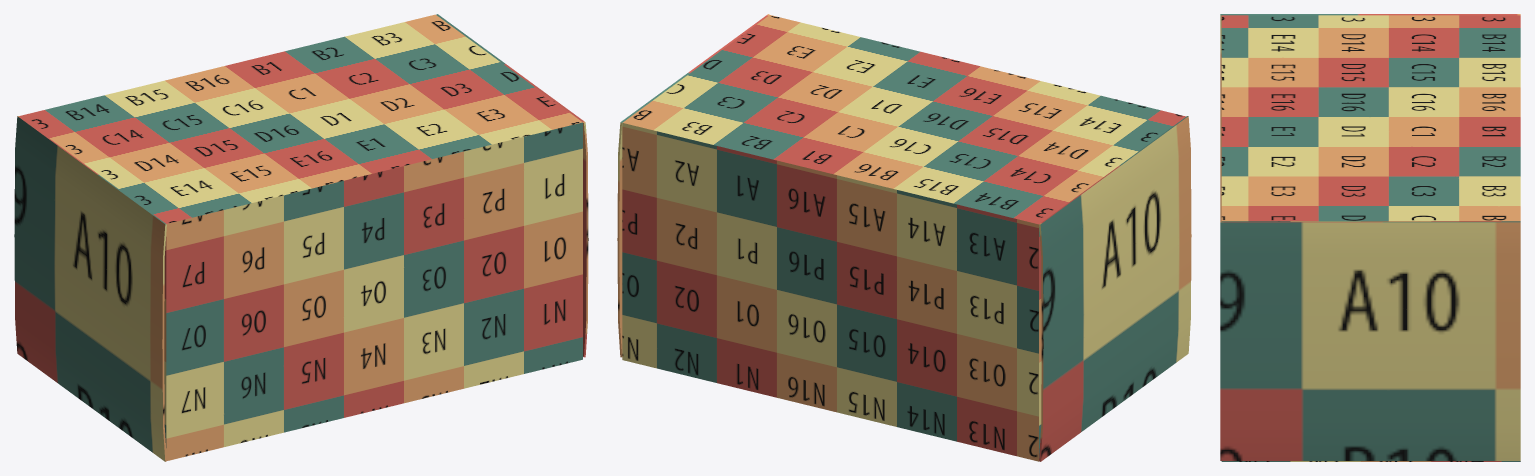
3 renders of one model, left to right at view 1: azimuth 30°, elevation 25°; view 2: azimuth 150°, elevation 25°; view 3: azimuth 270°, elevation 25°, orthographic.
Parts seen in each view (by area): view 1: SM_Box_L_01b; view 2: SM_Box_L_01b; view 3: SM_Box_L_01b.
Boxes of the visible parts, left/top/right/bottom form: SM_Box_L_01b: left=14, top=14, right=588, bottom=461; SM_Box_L_01b: left=617, top=14, right=1191, bottom=461; SM_Box_L_01b: left=1220, top=14, right=1520, bottom=461.
Bounding box in the file's own units: 33.46 × 17.84 × 20.13.
1 material, 1 textured.
